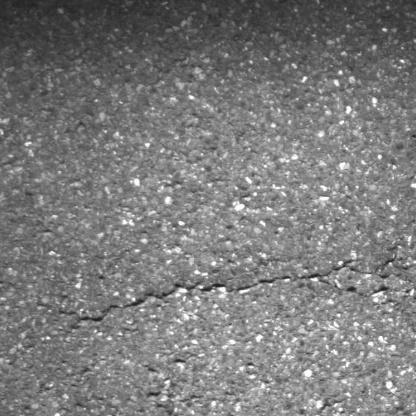Cracks: (54, 253, 408, 336)
